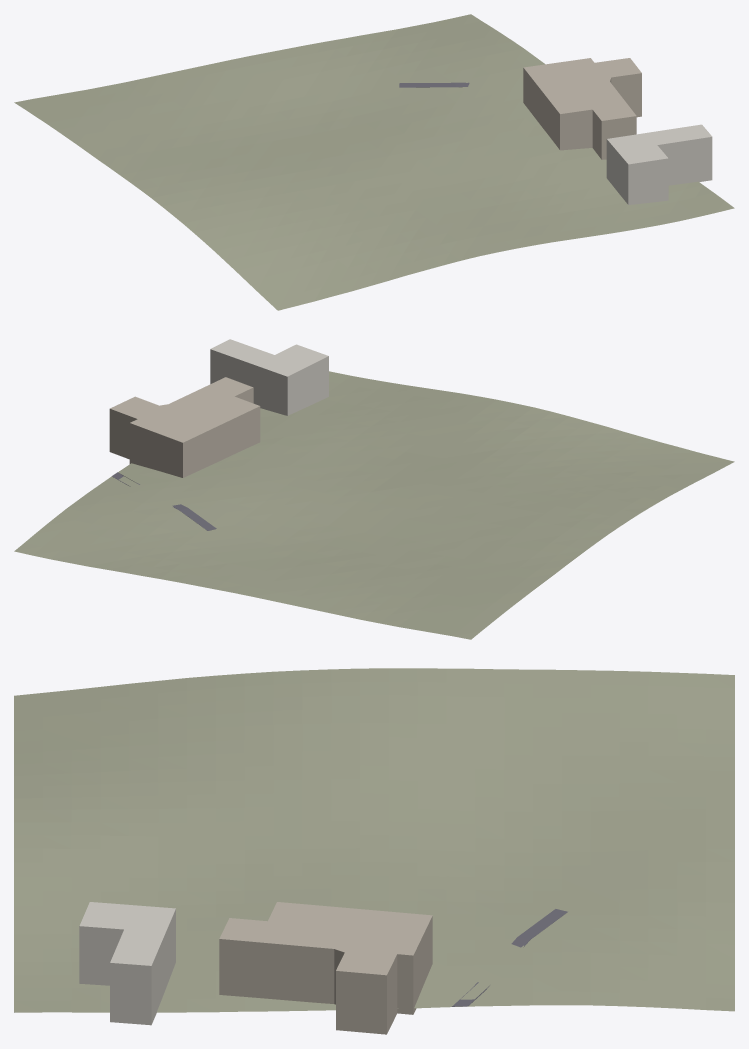
The model's file is chunk_0_2.glb.
3 renders of one model, top to bottom at view 1: azimuth 30°, elevation 25°; view 2: azimuth 150°, elevation 25°; view 3: azimuth 270°, elevation 25°, orthographic. The views are drawn at different scales.
Visible parts, largest first — view 1: geometry_2, geometry_0, geometry_1; view 2: geometry_2, geometry_0, geometry_1; view 3: geometry_2, geometry_0, geometry_1, geometry_4.
Boxes of the visible parts, x1,y1,x2,y2 form: geometry_2: (14,14,734,310); geometry_0: (523,58,641,159); geometry_1: (606,124,712,204); geometry_2: (14,371,734,639); geometry_0: (109,377,260,477); geometry_1: (210,339,328,415); geometry_2: (14,668,734,1012); geometry_0: (219,902,432,1034); geometry_1: (79,902,175,1025); geometry_4: (452,909,567,1006).
Size of the model in its own units: 267 by 22.75 by 250.
